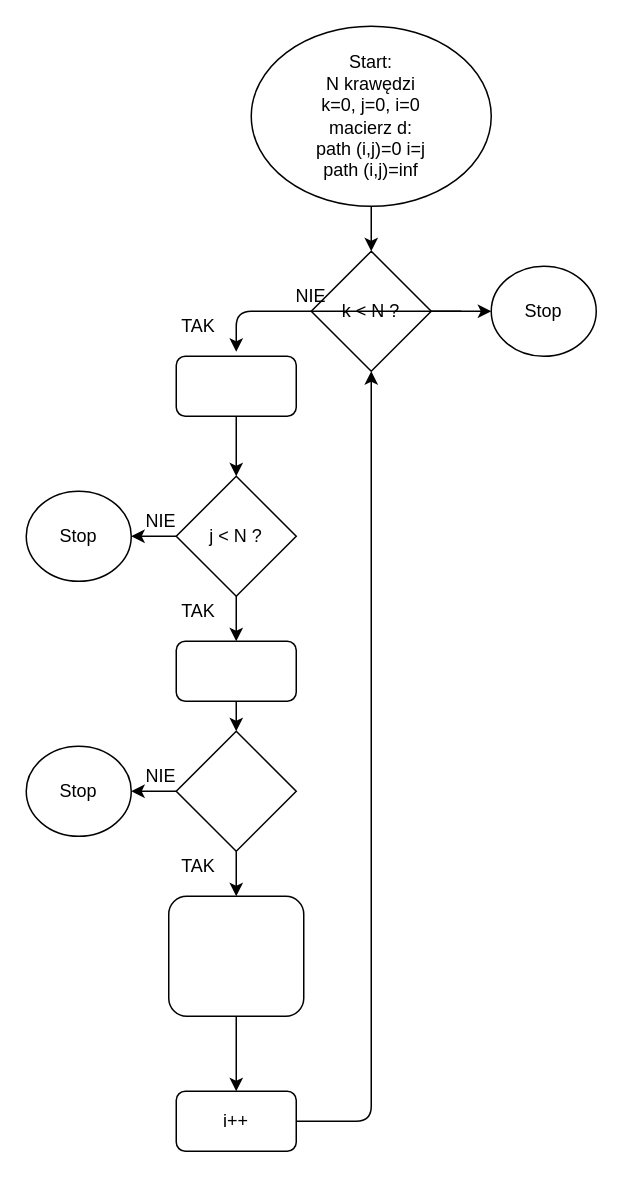
Image size: 623x1178. Some labels were removed from this diagram. Here are the shapes that lost their labels. From the top down, the centre of each, then its label:
the point at 235,385: k++
the point at 235,670: j++
the point at 235,790: i < N ?
the point at 235,955: path (i,j) k = min(path (i,j) k-1 , path (i,k) k-1 + path (k,j) k-1
